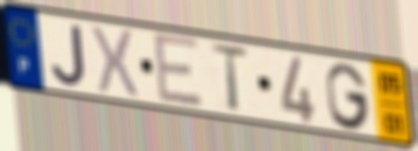4: (279, 53, 318, 125)
E: (150, 29, 207, 110)
G: (323, 60, 373, 132)
J: (49, 23, 88, 89)
T: (207, 42, 251, 115)
X: (89, 23, 141, 103)
